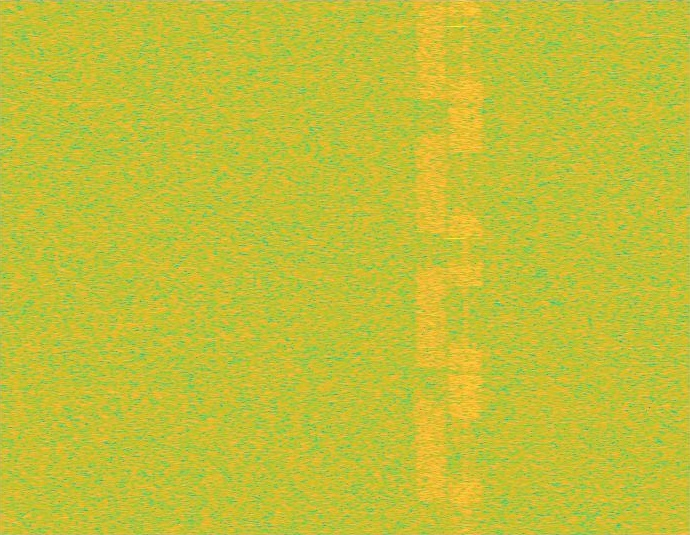5G: (414, 0, 449, 534)
DSSS: (463, 0, 468, 534)
LTE: (449, 0, 483, 534)
Radar: (449, 0, 463, 534)
